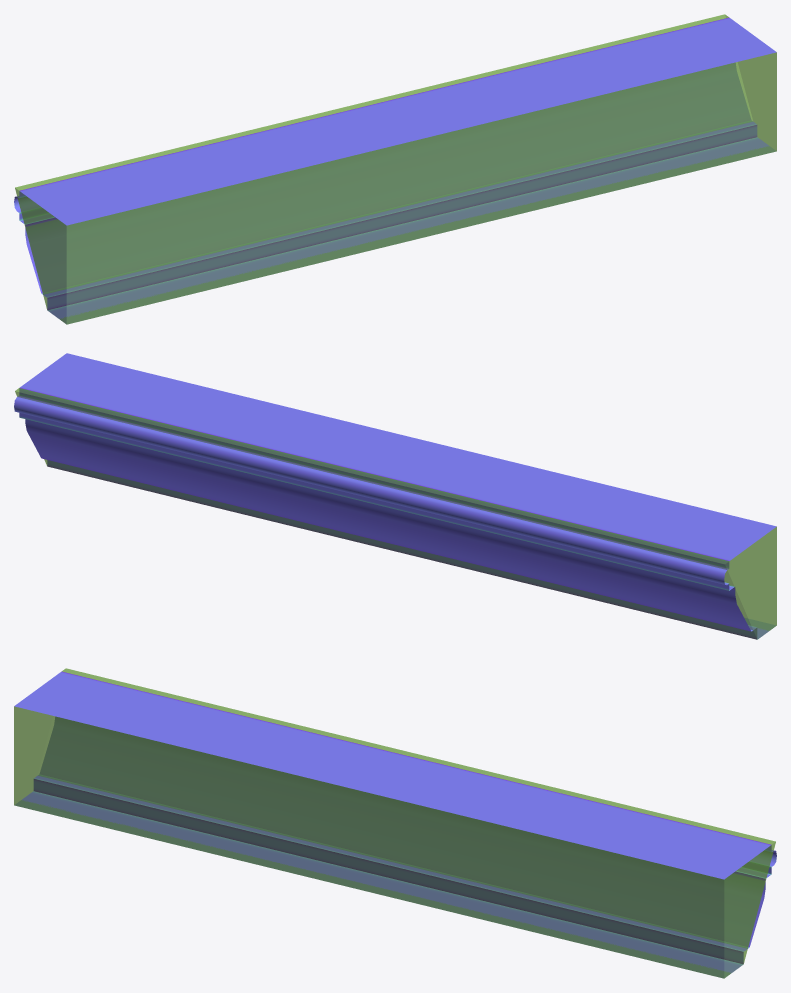
Rendered from F_md_TrimH_3m_05.fbx.
The picture shows the model from 3 angles, top to bottom: view 1: azimuth 30°, elevation 25°; view 2: azimuth 150°, elevation 25°; view 3: azimuth 330°, elevation 25°; orthographic projection.
Parts seen in each view (by area): view 1: F_md_TrimH_3m_05_LOD0, F_md_TrimH_3m_05_col_01; view 2: F_md_TrimH_3m_05_LOD0, F_md_TrimH_3m_05_col_01; view 3: F_md_TrimH_3m_05_LOD0, F_md_TrimH_3m_05_col_01.
Boxes of the visible parts, x1=… form: F_md_TrimH_3m_05_LOD0: x1=14, y1=17, x2=776, y2=323; F_md_TrimH_3m_05_col_01: x1=15, y1=14, x2=776, y2=324; F_md_TrimH_3m_05_LOD0: x1=14, y1=353, x2=776, y2=639; F_md_TrimH_3m_05_col_01: x1=15, y1=388, x2=776, y2=639; F_md_TrimH_3m_05_LOD0: x1=14, y1=671, x2=776, y2=977; F_md_TrimH_3m_05_col_01: x1=14, y1=668, x2=775, y2=978.
Size of what is drawn, in the model's own units: 300 by 40 by 38.61.
